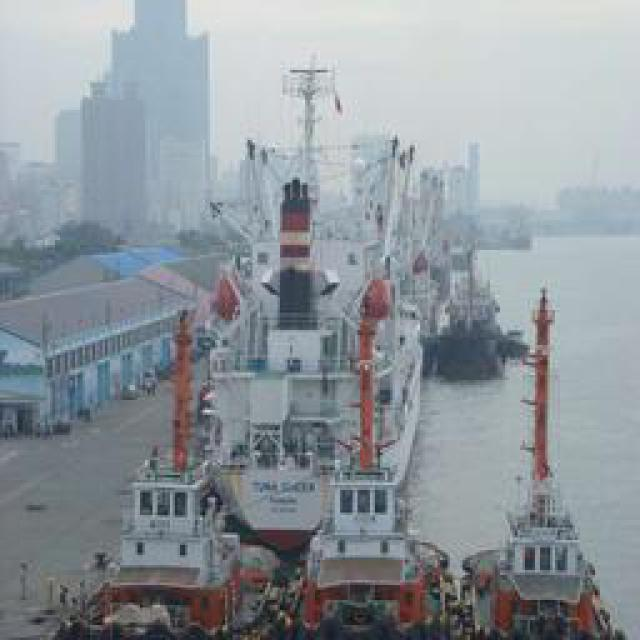Ship: (84, 92, 439, 630)
